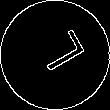L_SW: (25, 29, 85, 81)
